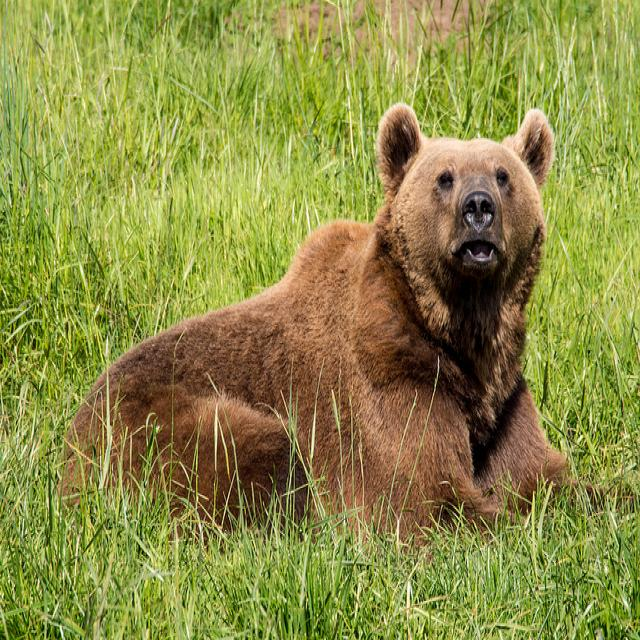Bear: (69, 86, 569, 546)
